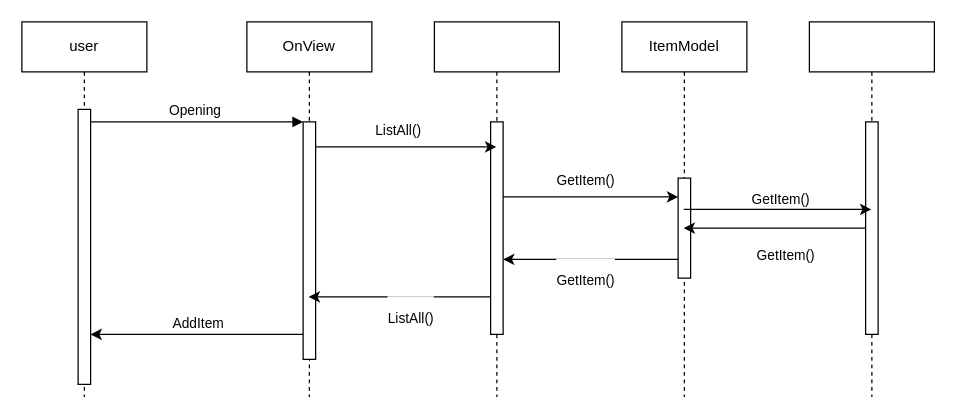
Image size: 956x419. Some labels were removed from this diagram. Each missing label, with the box of its shape:
Database: (808, 21, 934, 397)
ItemService: (433, 21, 559, 397)
